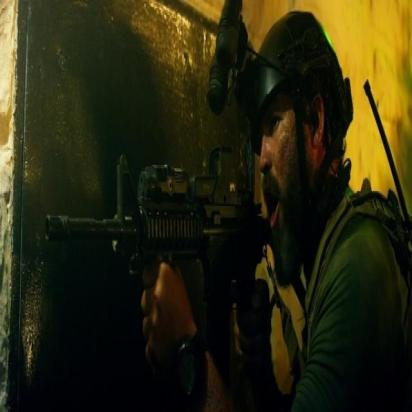Gun: (44, 142, 273, 331)
